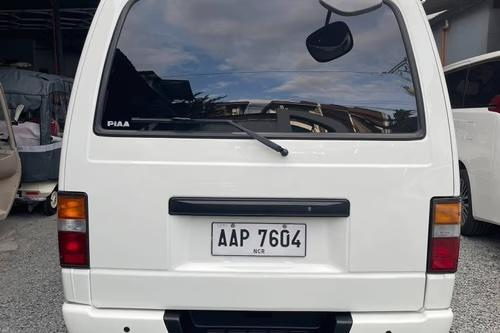plate: (213, 223, 307, 258)
